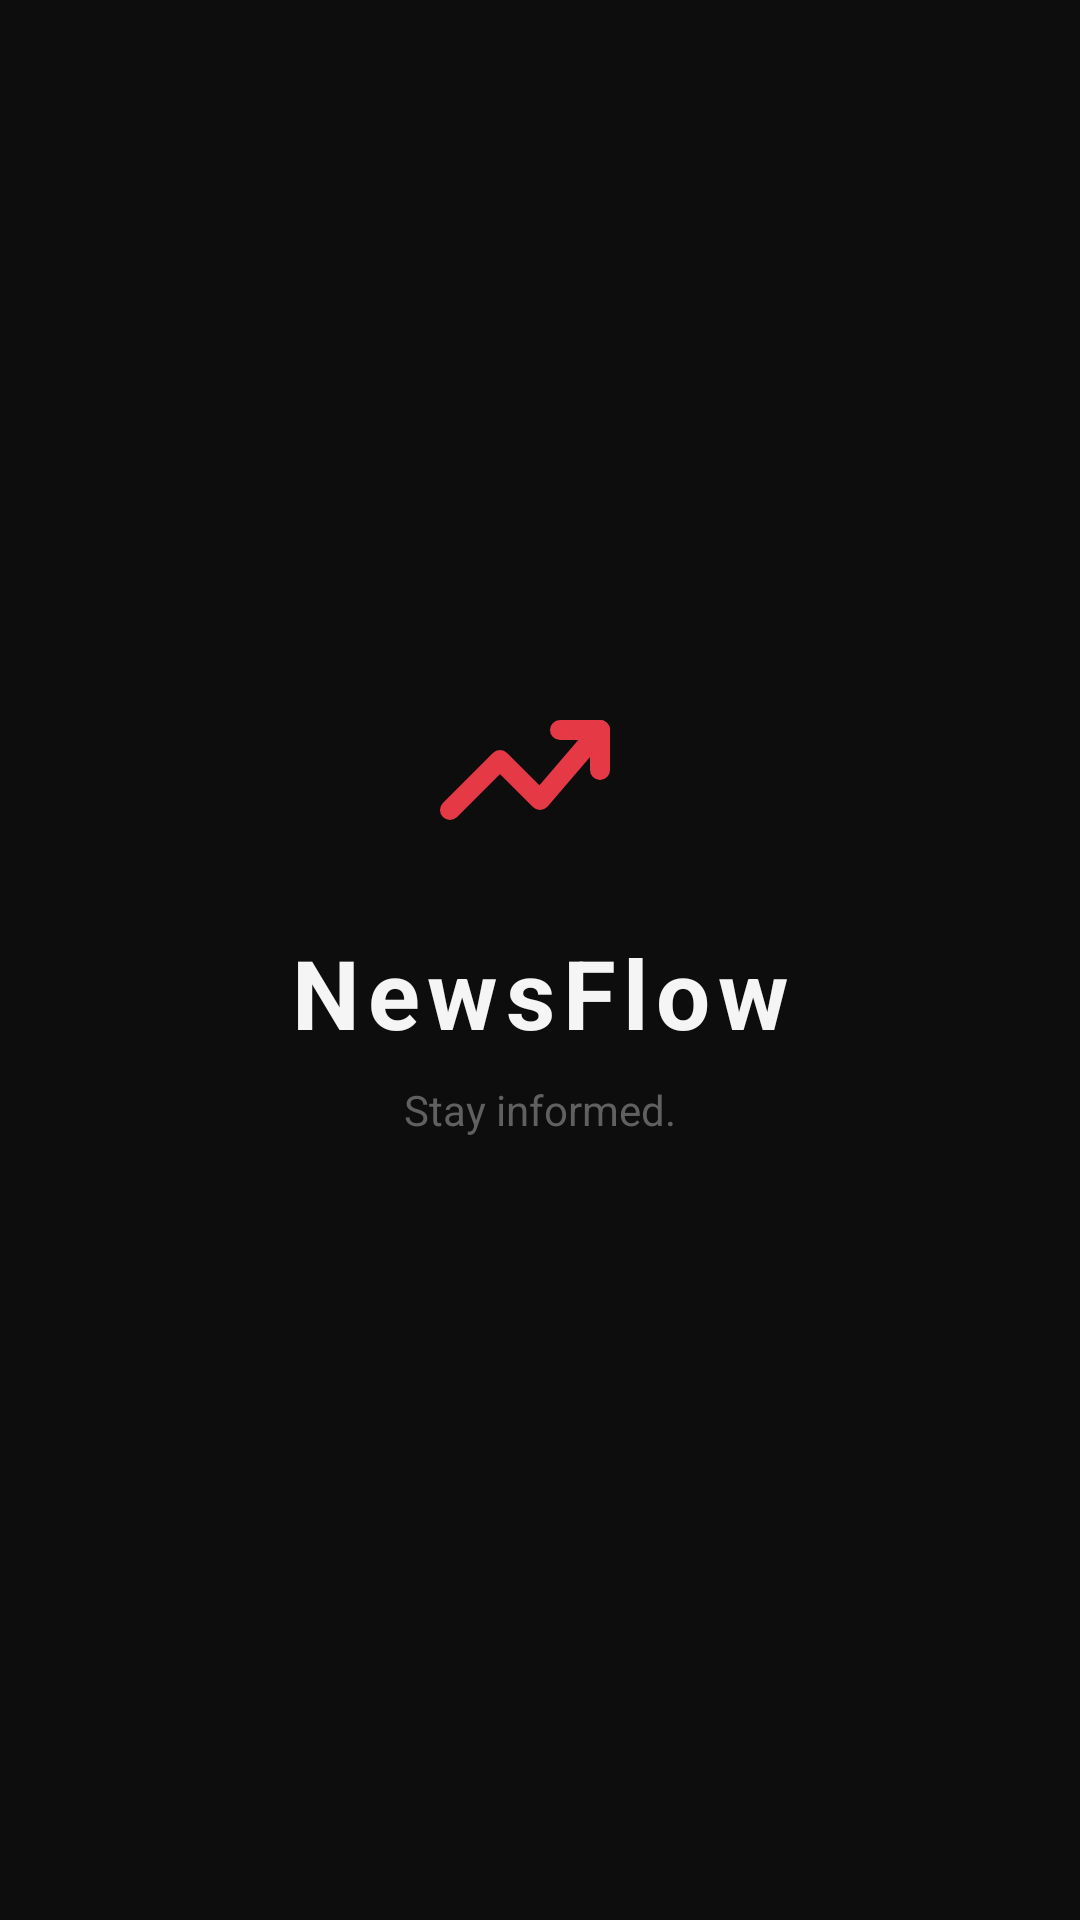

Icon click points for this 1080*1920 phone screenshot, format (x,y):
trending: (525,770)
